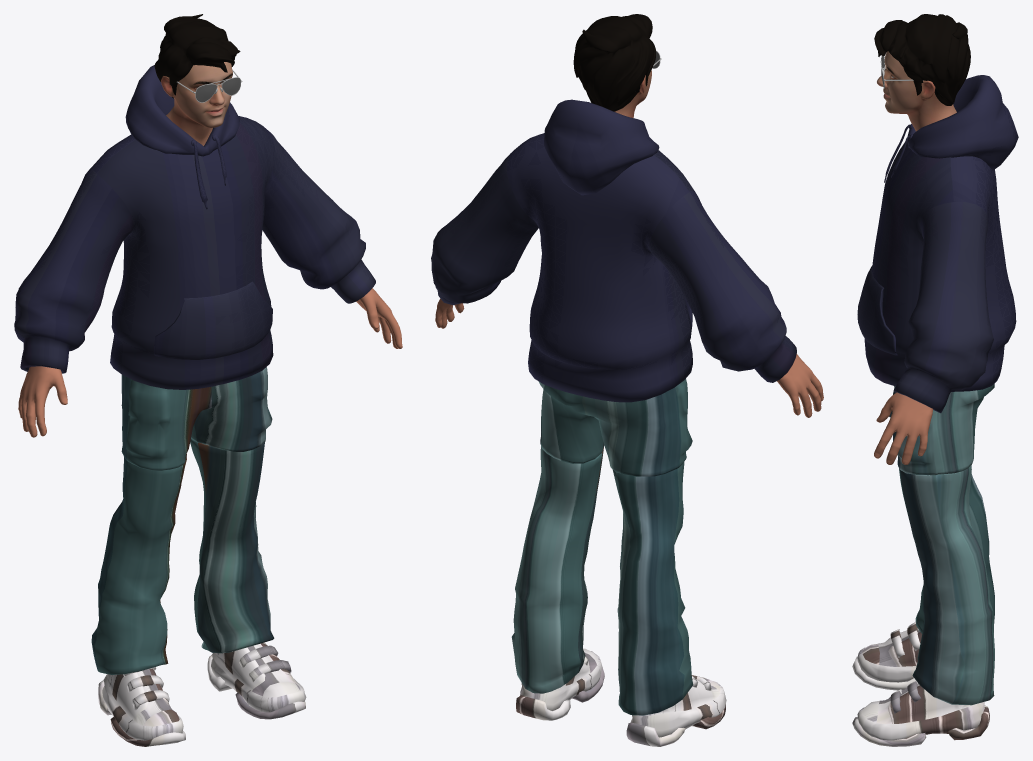
The model's file is iz_developer.fbx.
3 views of the same model, side by side, from view 1: azimuth 30°, elevation 25°; view 2: azimuth 150°, elevation 25°; view 3: azimuth 270°, elevation 25° (orthographic).
Parts seen in each view (by area): view 1: Wolf3D_Outfit_Top, Wolf3D_Outfit_Bottom, Wolf3D_Outfit_Footwear, Wolf3D_Hair, Wolf3D_Body, Wolf3D_Head, Wolf3D_Glasses; view 2: Wolf3D_Outfit_Top, Wolf3D_Outfit_Bottom, Wolf3D_Outfit_Footwear, Wolf3D_Hair, Wolf3D_Body; view 3: Wolf3D_Outfit_Top, Wolf3D_Outfit_Bottom, Wolf3D_Outfit_Footwear, Wolf3D_Hair, Wolf3D_Head, Wolf3D_Body.
Boxes of the visible parts, bbox=[...] form: Wolf3D_Outfit_Top: bbox=[14, 65, 375, 389]; Wolf3D_Outfit_Bottom: bbox=[91, 367, 274, 674]; Wolf3D_Outfit_Footwear: bbox=[98, 642, 306, 746]; Wolf3D_Hair: bbox=[154, 14, 240, 98]; Wolf3D_Body: bbox=[18, 288, 402, 437]; Wolf3D_Head: bbox=[161, 62, 232, 145]; Wolf3D_Glasses: bbox=[177, 70, 242, 102]; Wolf3D_Outfit_Top: bbox=[431, 99, 796, 402]; Wolf3D_Outfit_Bottom: bbox=[511, 379, 693, 715]; Wolf3D_Outfit_Footwear: bbox=[516, 648, 726, 746]; Wolf3D_Hair: bbox=[573, 14, 655, 111]; Wolf3D_Body: bbox=[435, 298, 823, 417]; Wolf3D_Outfit_Top: bbox=[857, 75, 1018, 413]; Wolf3D_Outfit_Bottom: bbox=[889, 384, 994, 705]; Wolf3D_Outfit_Footwear: bbox=[852, 622, 989, 746]; Wolf3D_Hair: bbox=[874, 14, 970, 105]; Wolf3D_Head: bbox=[877, 51, 956, 131]; Wolf3D_Body: bbox=[874, 392, 933, 464].
Size of the model in its own units: 1.06 by 1.88 by 0.4117.
9 materials, 9 textured.
